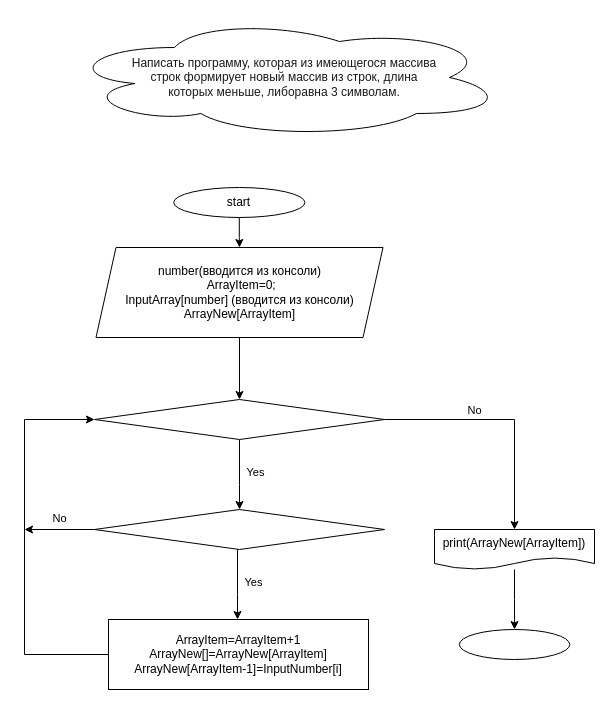
Image size: 612x707. Some labels were removed from this diagram. Here are the shapes that lost their labels. From the top down, the centre of each, then its label:
(239,419): i < number
(239,529): InputArray[i].Length < 3
(514,644): end
